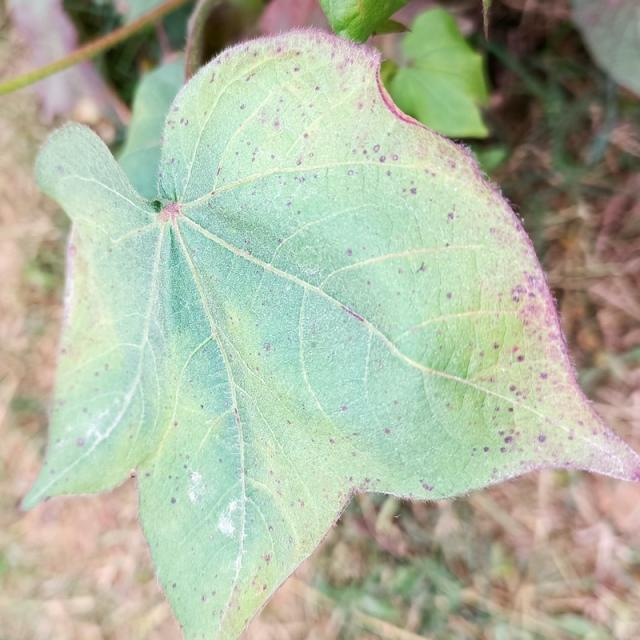Bacterial_Blight: (511, 289, 557, 357), (344, 141, 393, 170), (340, 304, 367, 324), (511, 284, 527, 302), (501, 431, 515, 448), (446, 205, 457, 221), (416, 262, 426, 273), (294, 176, 305, 184), (422, 483, 433, 491), (69, 245, 76, 257), (567, 430, 575, 439), (76, 438, 85, 446), (308, 341, 317, 349), (635, 467, 640, 481), (538, 435, 546, 443), (56, 166, 64, 174), (372, 145, 380, 153), (210, 73, 216, 83), (264, 344, 271, 352), (516, 355, 524, 362), (180, 118, 188, 125), (357, 102, 364, 110), (529, 276, 536, 284), (216, 167, 222, 176), (498, 430, 505, 437), (273, 121, 280, 128), (512, 346, 519, 353), (340, 405, 347, 412), (410, 188, 417, 195), (509, 385, 516, 392), (489, 227, 496, 234), (489, 376, 496, 383), (345, 249, 352, 256), (276, 488, 282, 496), (493, 342, 499, 350), (264, 554, 270, 562), (329, 438, 335, 445), (446, 292, 452, 299), (384, 428, 391, 434), (296, 159, 302, 166), (170, 497, 176, 504), (286, 201, 292, 207), (507, 407, 513, 413), (244, 239, 250, 245), (398, 268, 404, 274), (500, 447, 506, 453), (393, 400, 399, 406), (483, 446, 489, 452), (169, 158, 175, 164), (245, 249, 251, 255), (314, 86, 320, 92), (240, 104, 246, 110), (276, 47, 282, 53), (348, 170, 354, 176), (210, 190, 216, 196), (299, 500, 304, 507), (268, 525, 273, 532), (201, 595, 206, 602), (364, 478, 370, 483), (348, 476, 353, 482), (366, 280, 371, 286), (445, 242, 450, 248), (270, 154, 275, 160), (145, 472, 150, 478), (173, 421, 178, 427), (262, 585, 267, 591), (294, 67, 300, 72), (211, 590, 216, 596), (172, 582, 177, 588), (209, 535, 214, 541), (313, 174, 318, 179), (278, 239, 283, 244), (352, 149, 357, 154), (303, 133, 308, 138), (200, 404, 204, 410), (183, 464, 187, 469)
Cotton: (24, 31, 639, 639)
